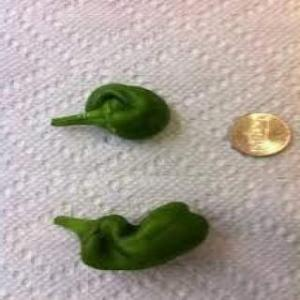bell_pepper: (47, 195, 217, 276), (36, 78, 180, 150)
